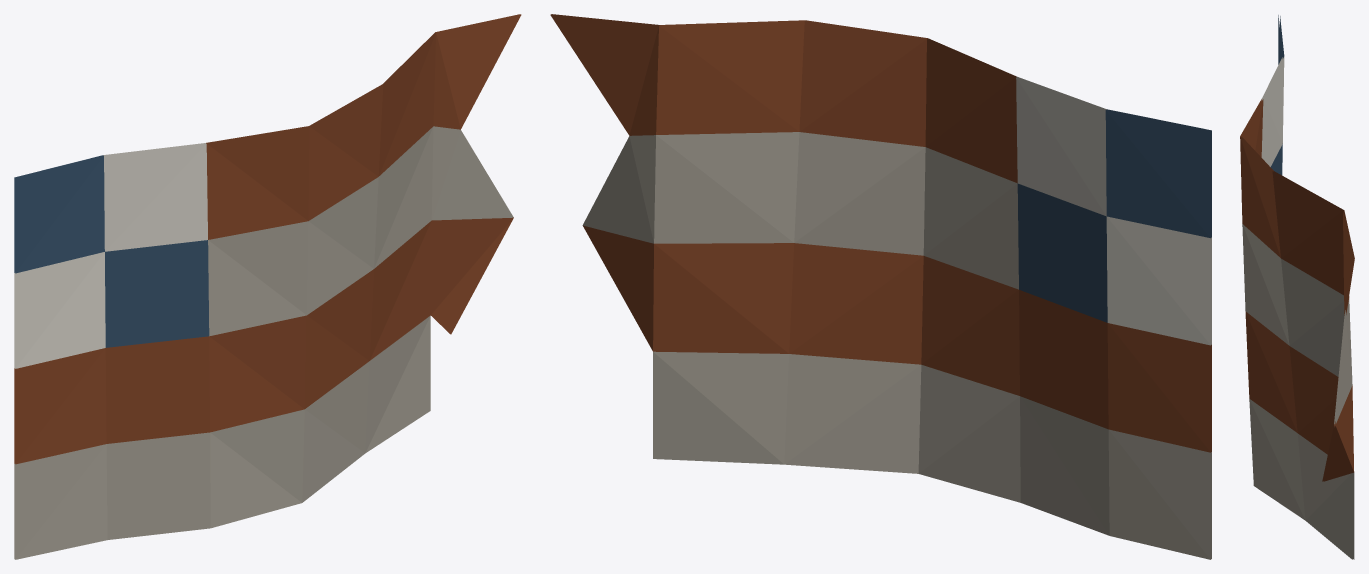
File: flag_torn_f3.glb
The picture shows the model from 3 angles, left to right: view 1: azimuth 30°, elevation 25°; view 2: azimuth 150°, elevation 25°; view 3: azimuth 270°, elevation 25°; orthographic projection. The views are drawn at different scales.
Visible parts, largest first — view 1: flag_torn_f3; view 2: flag_torn_f3; view 3: flag_torn_f3.
Boxes of the visible parts, box(x1,y1,x2,y2) form: flag_torn_f3: box(14, 14, 521, 559); flag_torn_f3: box(550, 14, 1211, 559); flag_torn_f3: box(1240, 15, 1354, 559).
Size of the model in its own units: 1.5 by 1.03 by 0.2975.
Materials: 3 (3 with a texture image).
